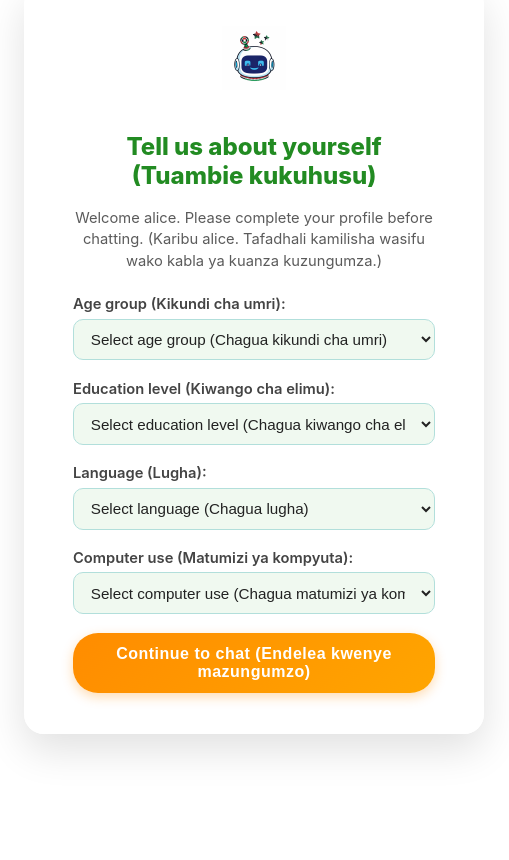
Test: shows and hides english fluency based on language choice
The width and height of the screenshot is (509, 860).
Expected: the field labelled "english understanding" is not shown
Select "English (Kiingereza)" in the dropdown labelled "Language (Lugha):" at (254, 509), box [73,488,435,530]
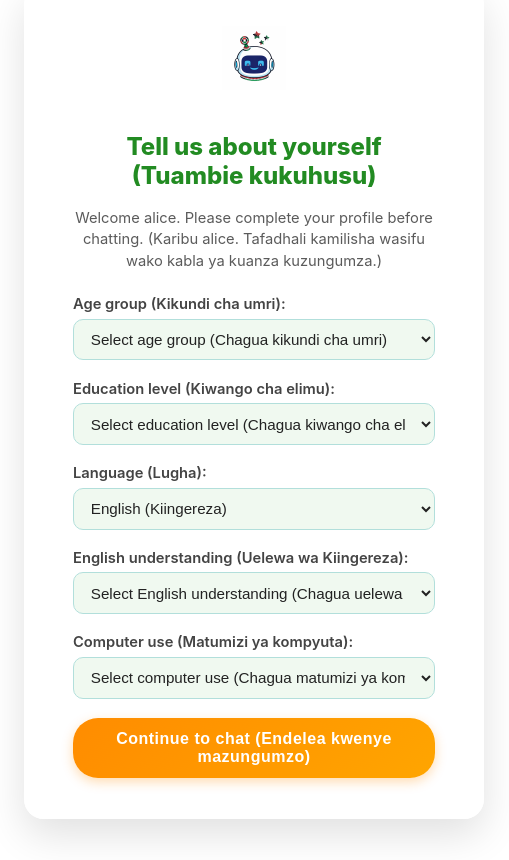
Result: the dropdown labelled "English understanding (Uelewa wa Kiingereza):" is shown at [73,572,435,614]
Select "Kiswahili (Kiswahili)" in the dropdown labelled "Language (Lugha):" at (254, 509), box [73,488,435,530]
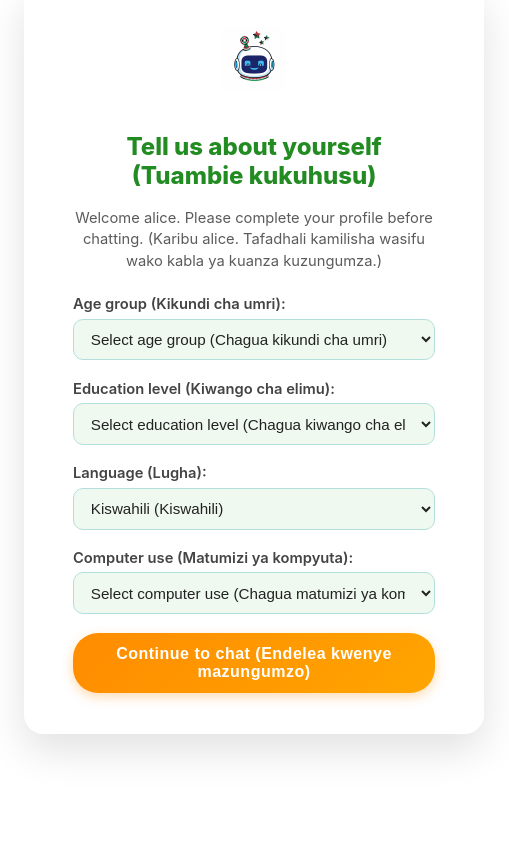
Result: the label labelled "English understanding" is gone
